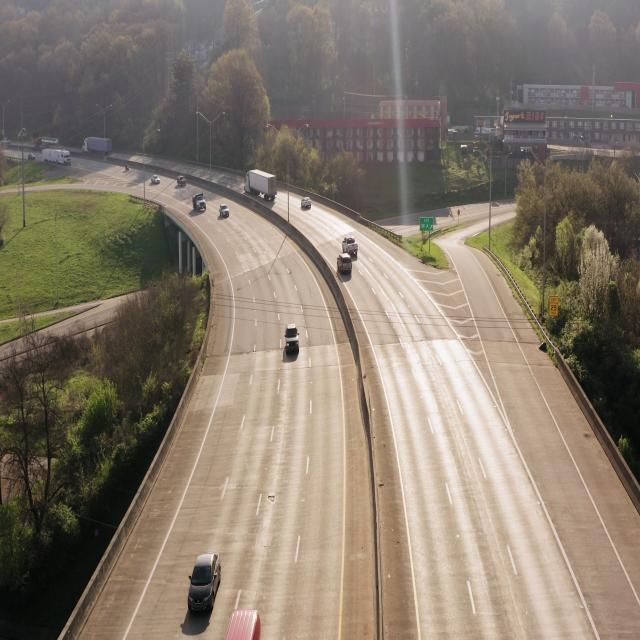Car: (184, 543, 223, 617), (284, 319, 301, 362), (334, 254, 353, 280), (341, 234, 360, 260)
